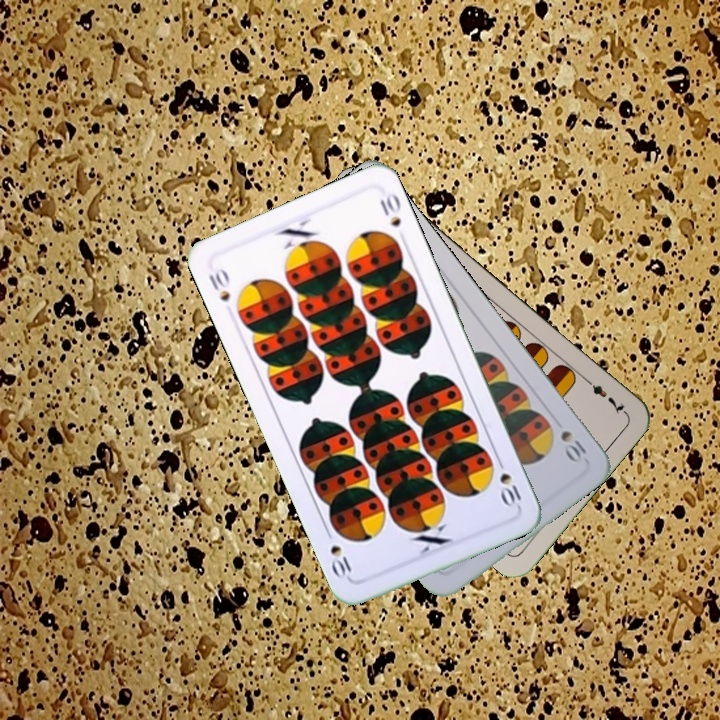E7: (579, 373, 628, 417)
S10: (492, 453, 524, 510), (556, 426, 589, 466), (204, 264, 233, 305)
